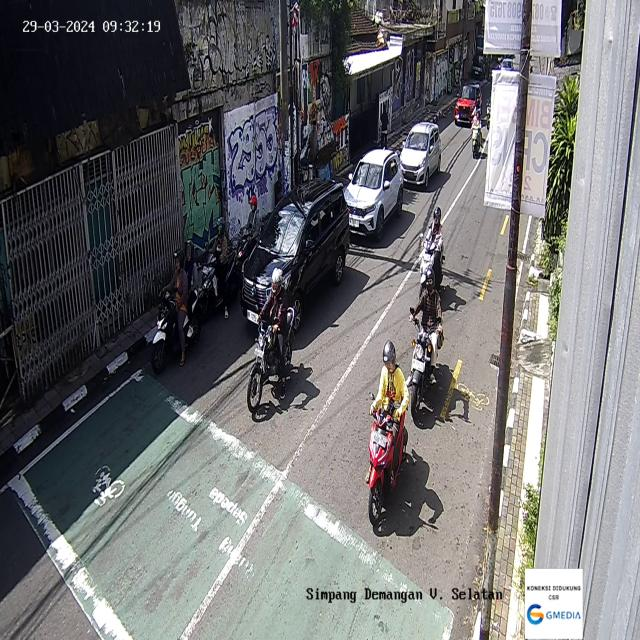car: (240, 177, 350, 334), (343, 147, 403, 242), (399, 121, 442, 187), (454, 82, 482, 126)
motorcycle: (366, 340, 408, 526), (246, 267, 295, 412), (151, 240, 202, 374), (406, 268, 444, 417), (198, 217, 238, 320), (234, 194, 263, 278), (419, 205, 445, 298), (471, 94, 484, 159), (486, 91, 492, 130)
